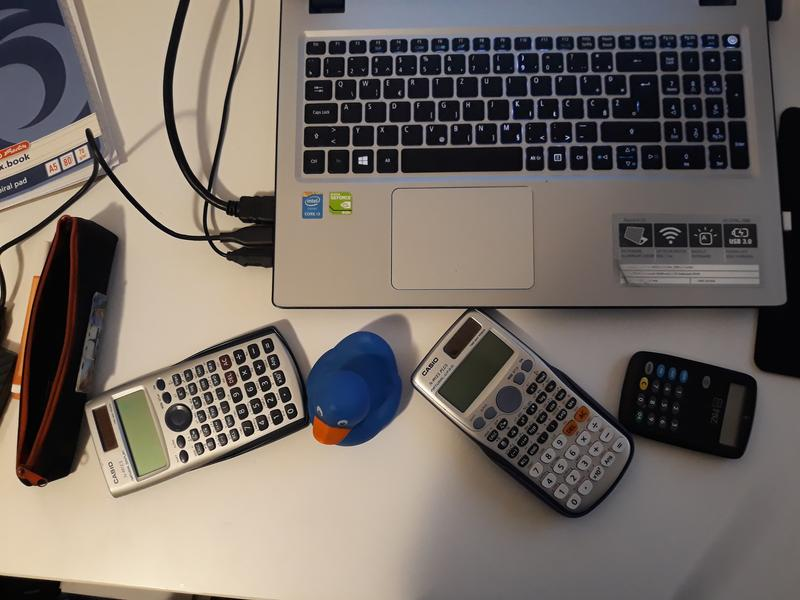CASIO_fx_991ES: (75, 318, 305, 511)
CASIO_fx_991ES_PLUS: (411, 297, 641, 525)
plava_patkica: (294, 323, 410, 459)
